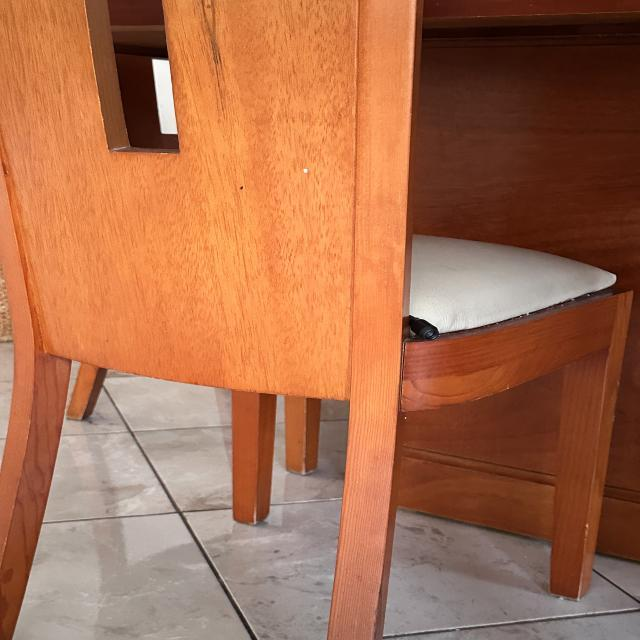hidden camera: (424, 329, 439, 340)
